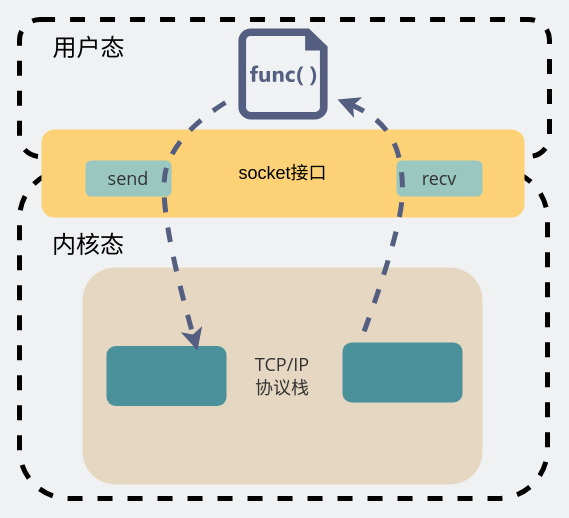
Image size: 569x518. Some labels were removed from this diagram. The shapes that lost their labels are listed below. From the top down, each one's centre as x and y in pixels, then its label:
At point (166, 376): "发送缓冲区".
At point (402, 372): "接收缓冲区".
